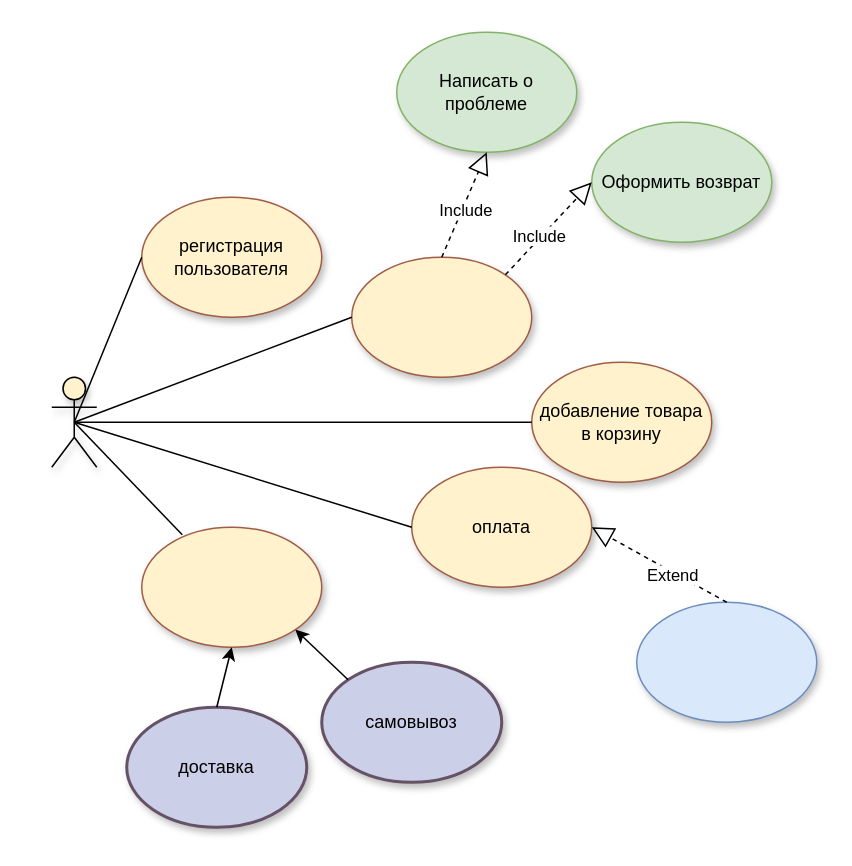
Some shapes in this 852 by 866 pixel diagram are drawn without their labels. The shapes that lost their labels are listed below. From the top down, each one's centre as x and y in pixels, then its label:
the point at 442,319: возврат товара
the point at 75,424: Покупатель
the point at 232,589: оформление заказа
the point at 727,664: Оплата бонусами
